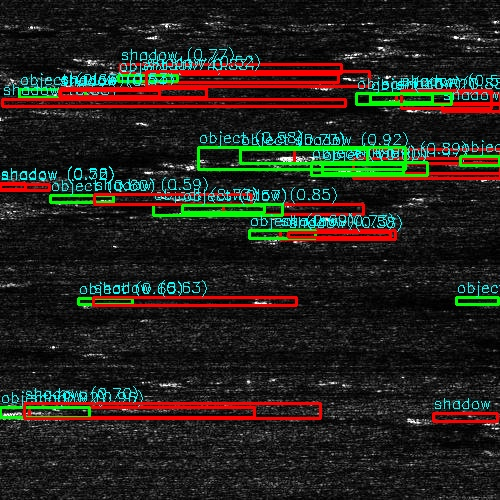rock: (233, 147, 390, 164), (141, 204, 266, 215), (433, 289, 500, 308), (0, 407, 77, 418), (324, 163, 397, 174), (92, 63, 175, 72), (0, 205, 61, 216), (367, 92, 430, 101), (118, 75, 191, 82), (37, 90, 110, 95), (227, 231, 300, 236), (356, 496, 409, 500)
shadow: (312, 147, 500, 164), (31, 407, 241, 418), (134, 63, 314, 72), (361, 163, 500, 174), (204, 204, 340, 215), (155, 75, 334, 82), (9, 205, 93, 216), (399, 92, 499, 101), (264, 231, 355, 236), (74, 90, 162, 95), (383, 496, 431, 500)
